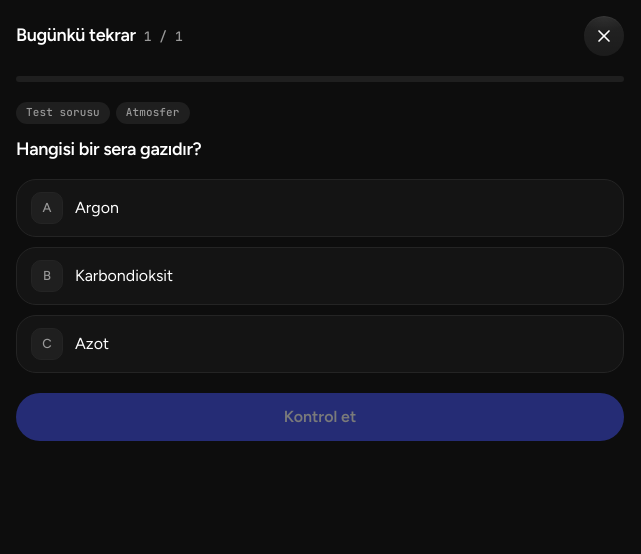
Test: tekrar oturumu › sayfada doğru cevap ve açıklama yok; seçip kontrol edince doğru gövde gider, geri bildirim ve satır görünür
The width and height of the screenshot is (641, 554).
Expected: the text "CO₂ ısıyı tutar" is not shown
Expected: the heading "Bugünkü tekrar" is shown, [16,24,136,46]
Click the radio button labelled "A Argon" at x=47, y=208, box [16,179,624,237]
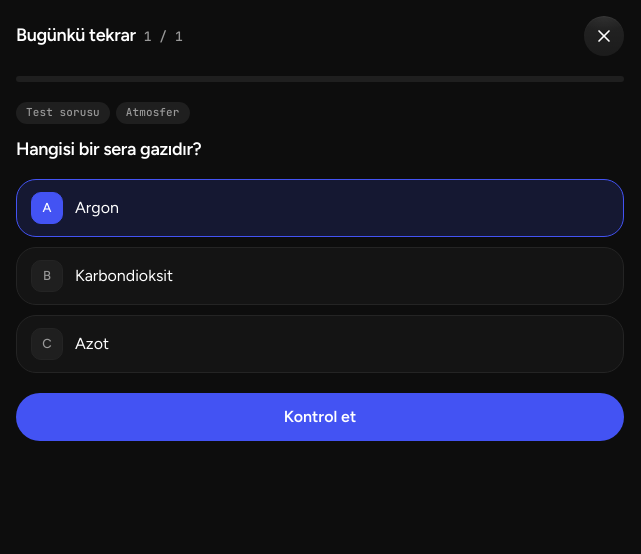
Click the button "Kontrol et" at x=320, y=417, box [16,393,624,441]
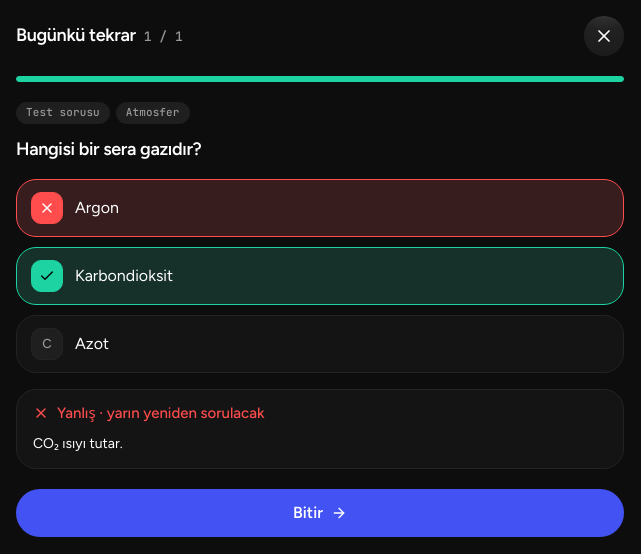
Expected: the text "Yanlış · yarın yeniden sorulacak" is shown, [33,404,264,422]
Expected: the text "CO₂ ısıyı tutar." is shown, [33,434,122,452]
Click the button "Bitir" at x=320, y=513, box [16,489,624,537]
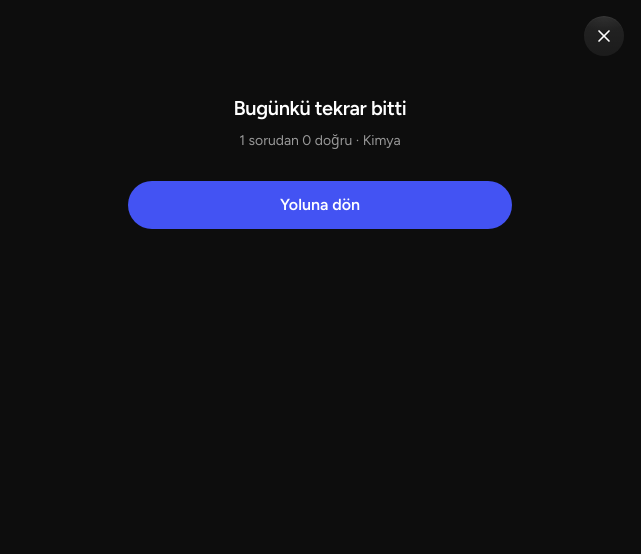
Expected: the heading "Bugünkü tekrar bitti" is shown, [234,96,406,121]
Expected: the text "1 sorudan 0 doğru · Kimya" is shown, [239,131,401,151]
